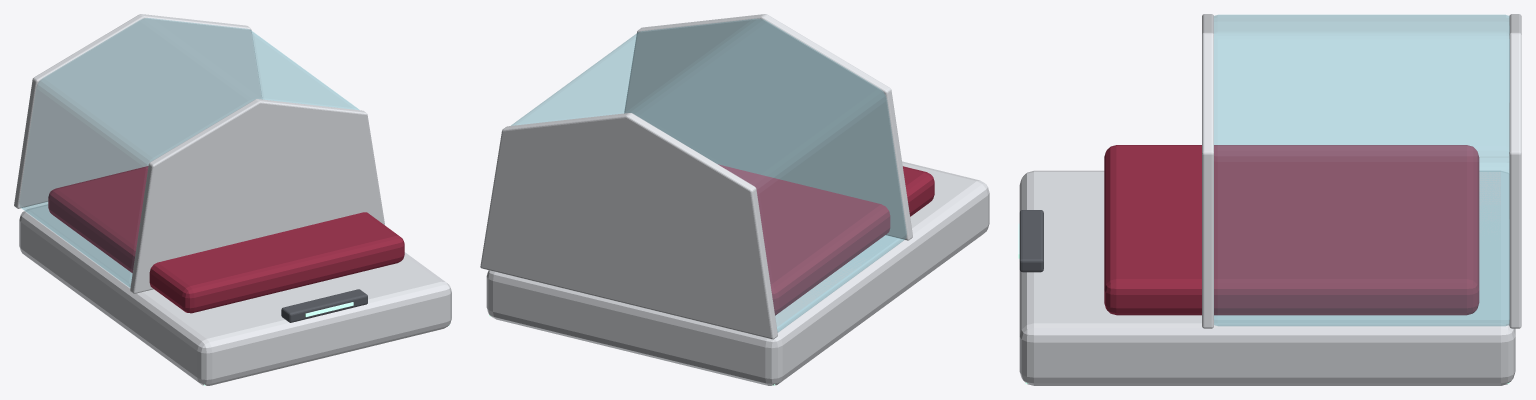
Rendered from bed_capsule.glb.
The picture shows the model from 3 angles, left to right: view 1: azimuth 30°, elevation 25°; view 2: azimuth 150°, elevation 25°; view 3: azimuth 270°, elevation 25°; orthographic projection. The views are drawn at different scales.
Visible parts, largest first — view 1: GD_bed_capsule__m0, GD_bed_capsule__m3, GD_bed_capsule__m1, GD_bed_capsule__m4; view 2: GD_bed_capsule__m0, GD_bed_capsule__m3, GD_bed_capsule__m1; view 3: GD_bed_capsule__m3, GD_bed_capsule__m1, GD_bed_capsule__m0, GD_bed_capsule__m4.
Part boxes in pixels (x1,y1,x2,y2): GD_bed_capsule__m0: [14, 14, 451, 385]; GD_bed_capsule__m3: [19, 18, 359, 287]; GD_bed_capsule__m1: [48, 166, 404, 313]; GD_bed_capsule__m4: [281, 289, 367, 322]; GD_bed_capsule__m0: [480, 14, 989, 385]; GD_bed_capsule__m3: [511, 19, 906, 332]; GD_bed_capsule__m1: [718, 164, 934, 315]; GD_bed_capsule__m3: [1214, 14, 1509, 326]; GD_bed_capsule__m1: [1104, 145, 1479, 315]; GD_bed_capsule__m0: [1019, 14, 1521, 385]; GD_bed_capsule__m4: [1019, 210, 1043, 272].
Bounding box in the file's own units: 1.6 × 1.26 × 2.08.
